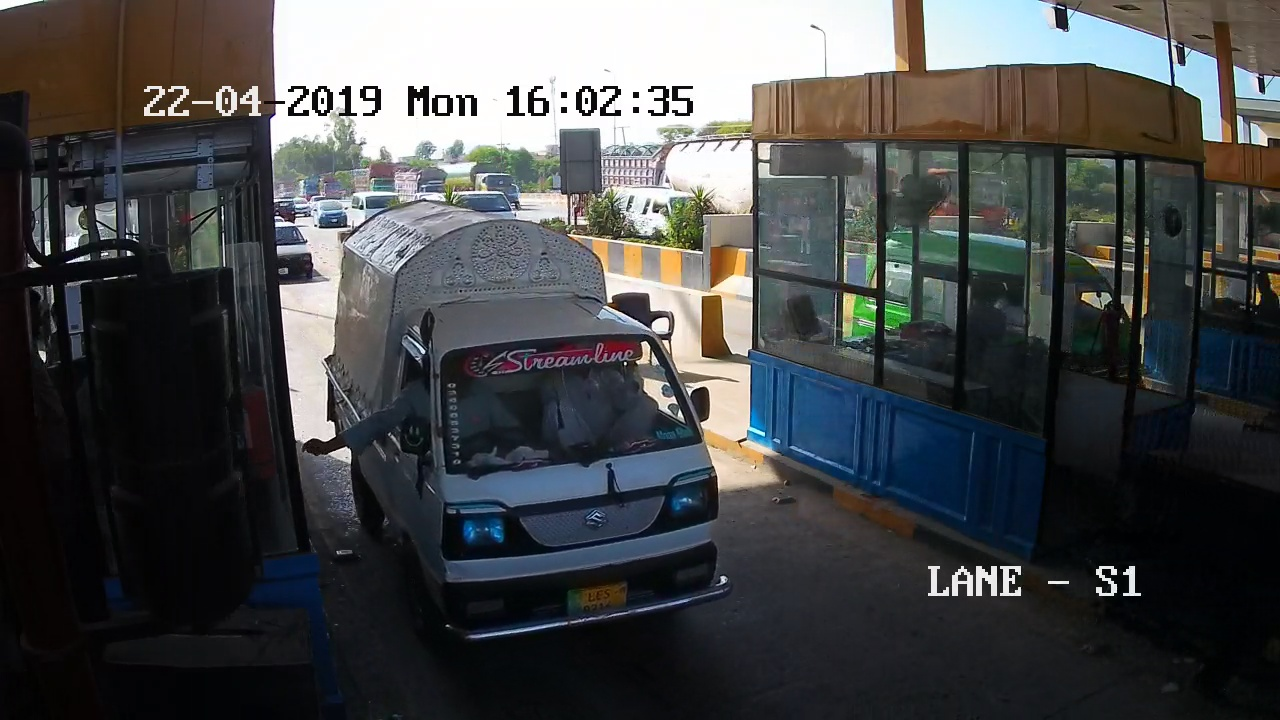car: (327, 202, 775, 689)
